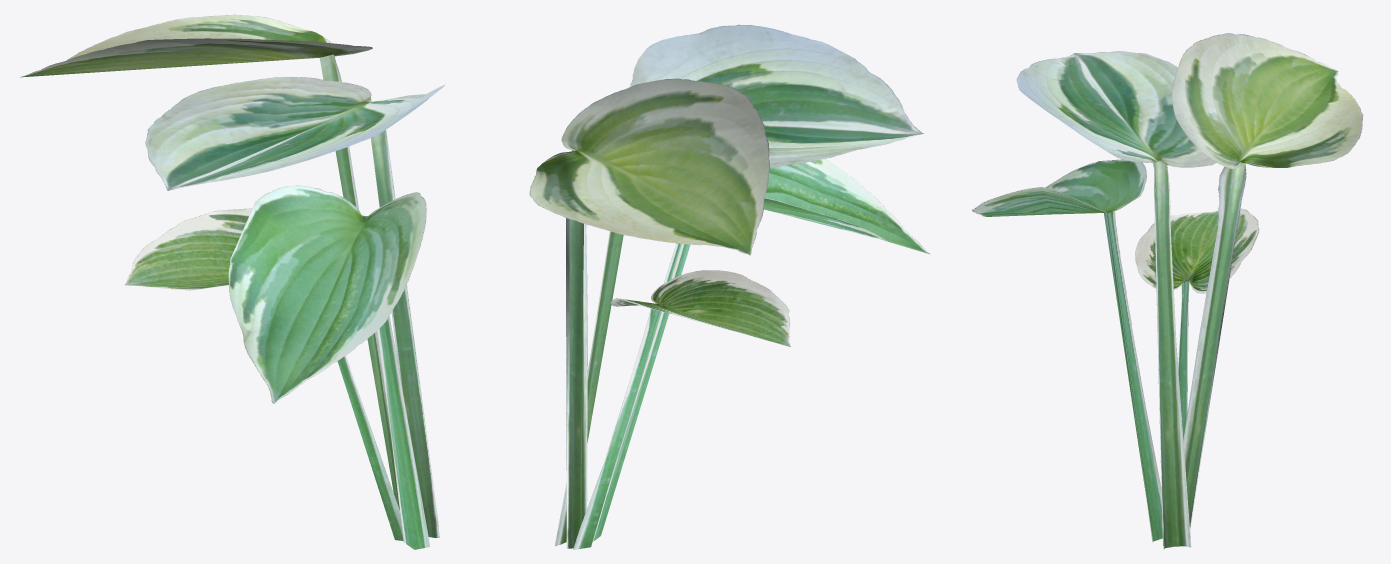
The model's file is plant_small_wg_00_line_filler_03.fbx.
3 renders of one model, left to right at view 1: azimuth 30°, elevation 25°; view 2: azimuth 150°, elevation 25°; view 3: azimuth 270°, elevation 25°, orthographic. The views are drawn at different scales.
Visible parts, largest first — view 1: plant_small_wg_00_line_filler_03; view 2: plant_small_wg_00_line_filler_03; view 3: plant_small_wg_00_line_filler_03.
Boxes of the visible parts, <box> form: plant_small_wg_00_line_filler_03: <box>20,14,445,549</box>; plant_small_wg_00_line_filler_03: <box>529,24,930,549</box>; plant_small_wg_00_line_filler_03: <box>972,33,1363,549</box>.
Size of the model in its own units: 26.76 by 41.99 by 36.87.
Materials: 1 (1 with a texture image).
